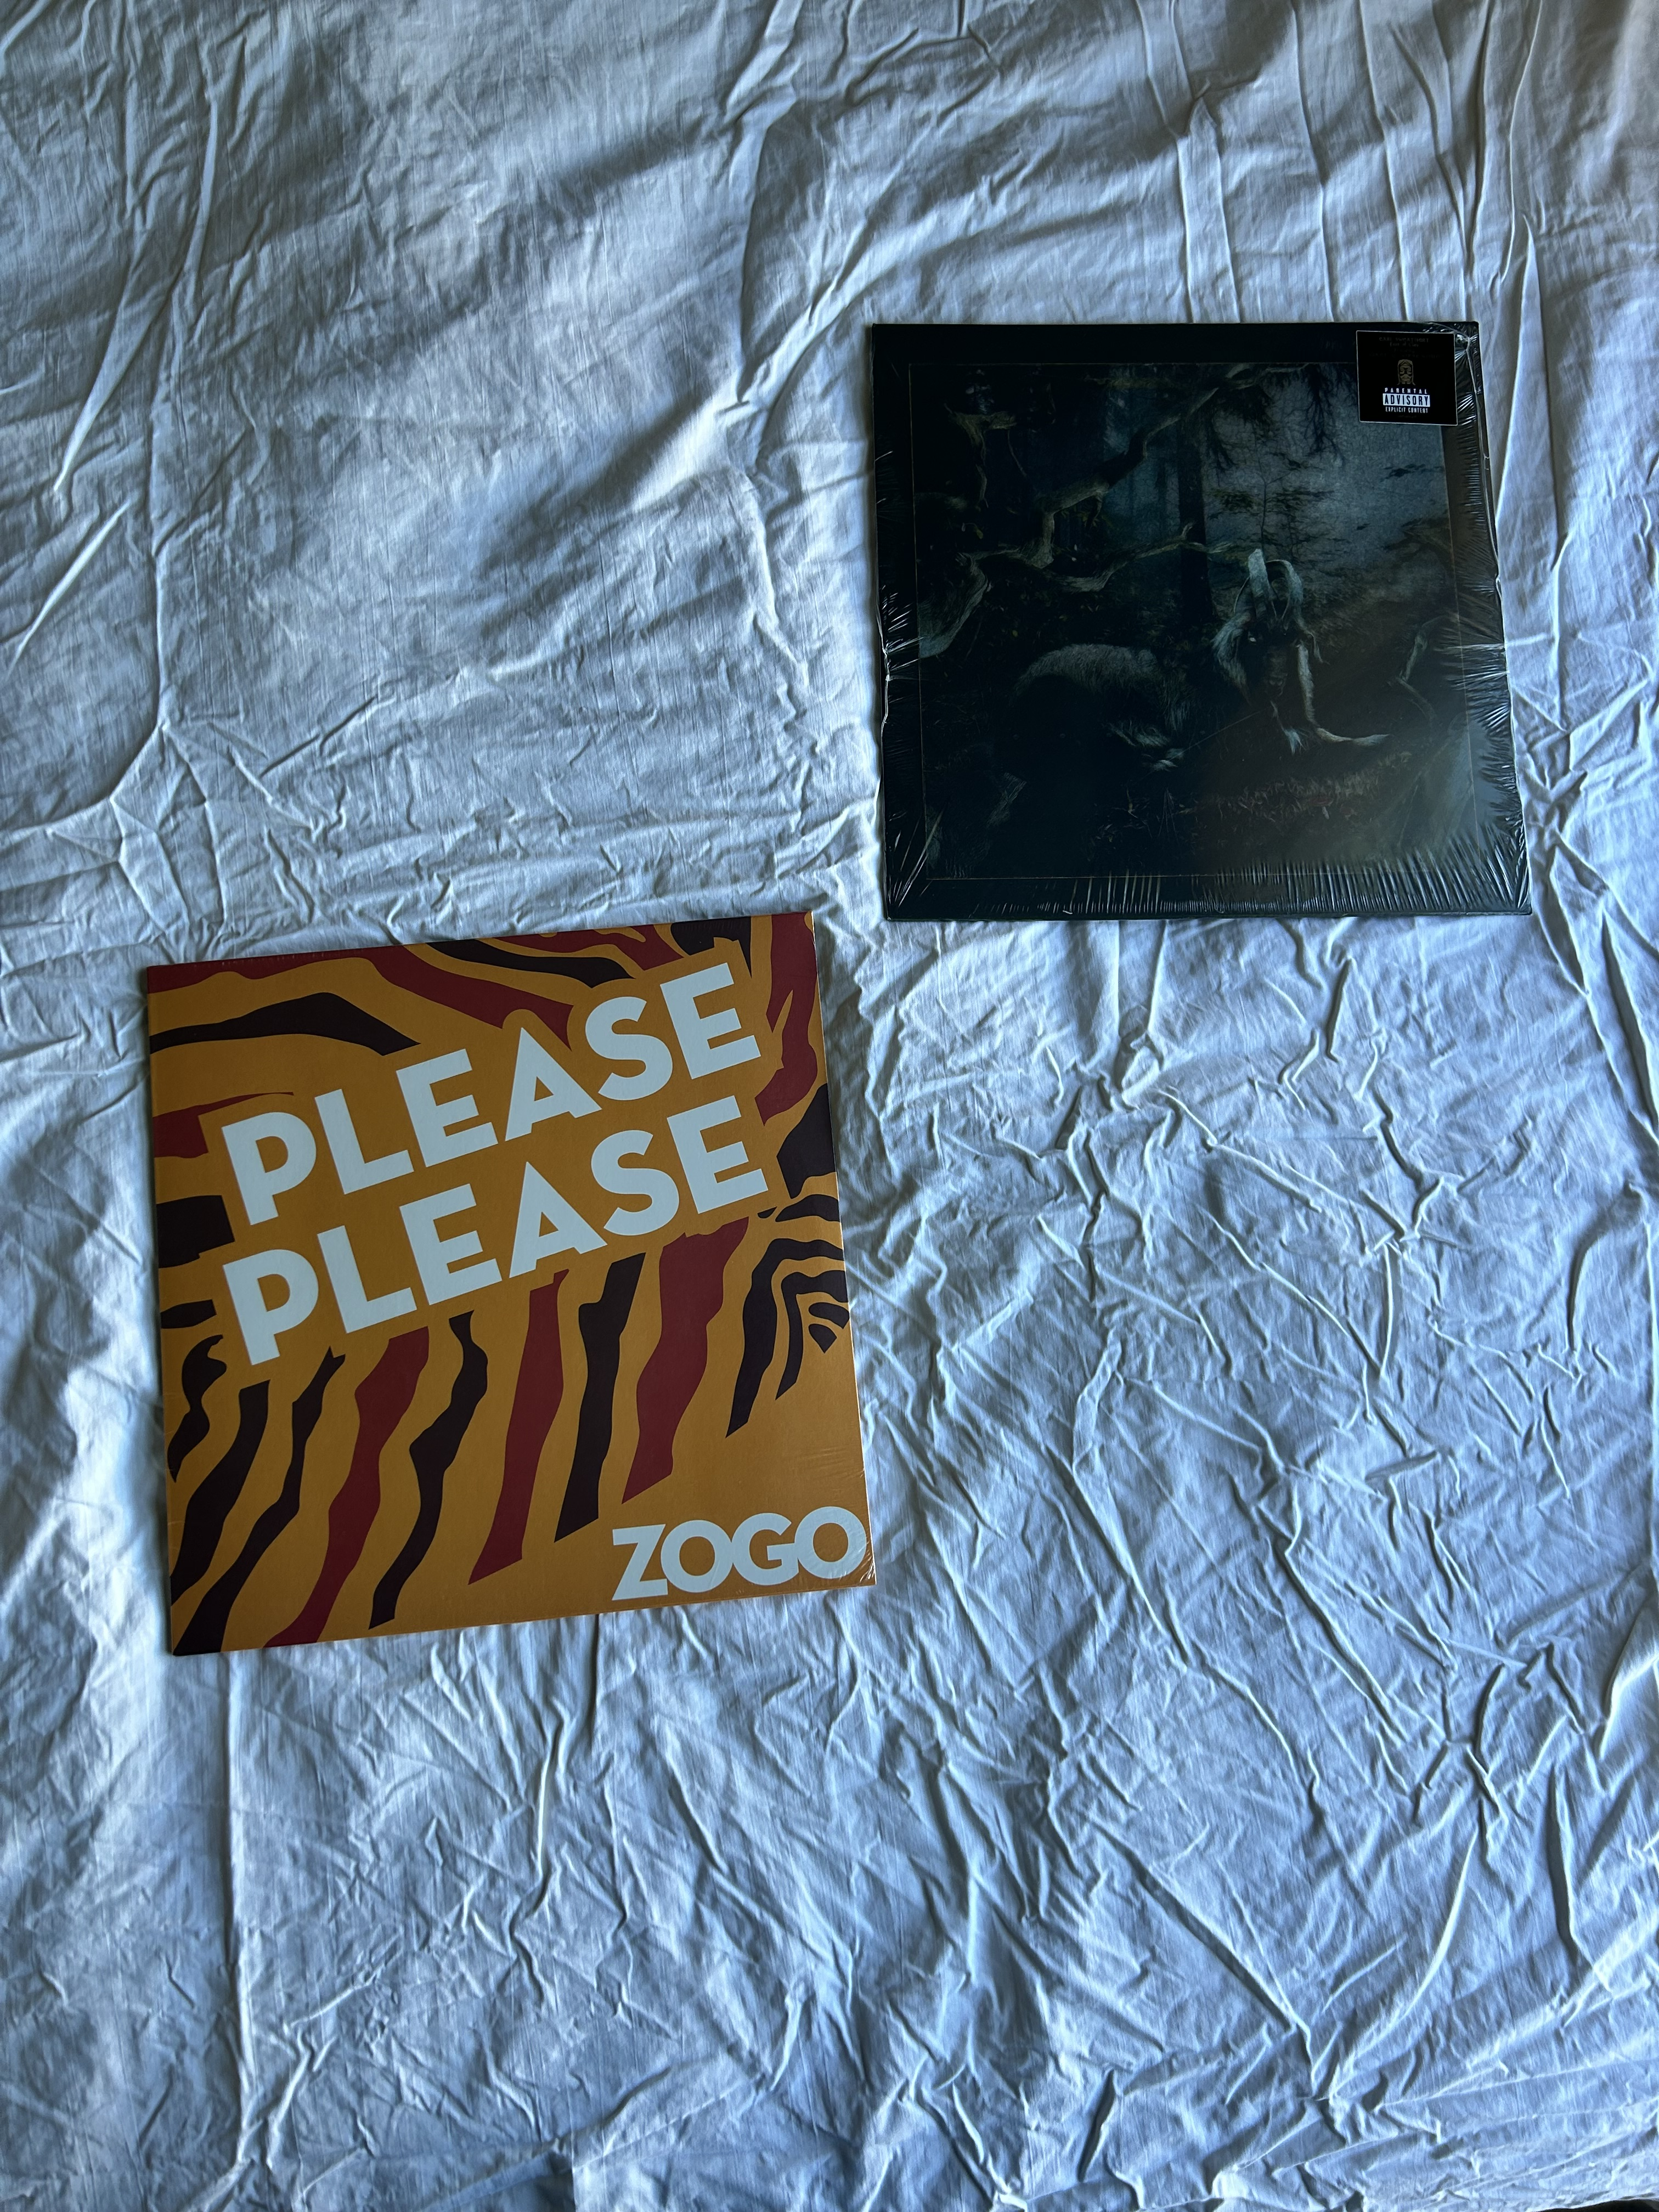earl sweatchirt_feet of clay: (866, 312, 1546, 927)
zogo_please please: (98, 956, 828, 1662)
